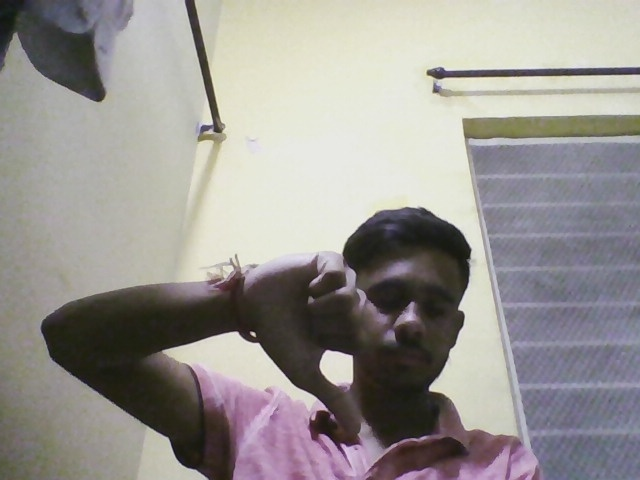no: (228, 234, 392, 435)
